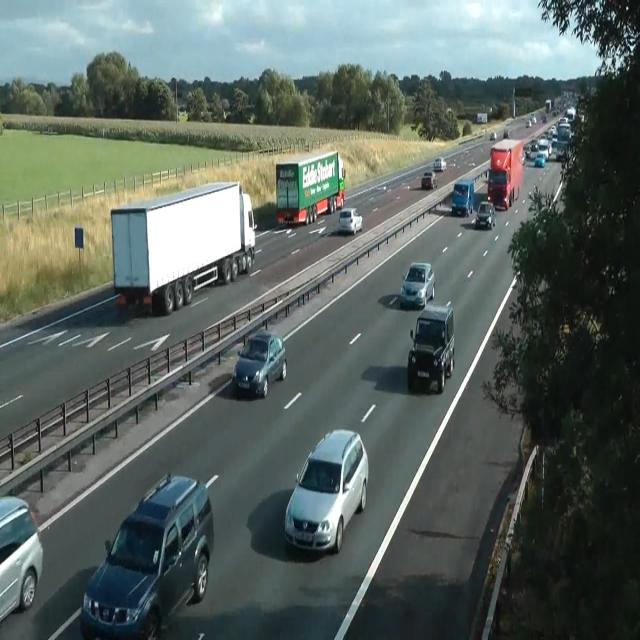bus: (0, 493, 44, 623), (232, 329, 286, 398), (399, 262, 435, 310), (338, 207, 362, 235), (475, 200, 495, 229), (421, 171, 437, 189), (434, 156, 446, 172), (534, 153, 546, 167), (530, 112, 536, 124), (489, 132, 496, 140), (541, 114, 547, 122), (503, 130, 509, 138), (525, 120, 531, 127)
jeep: (80, 471, 214, 637), (284, 428, 368, 554), (407, 300, 455, 393), (451, 180, 474, 216)
minibus: (110, 178, 256, 316), (275, 149, 345, 227), (487, 138, 524, 210), (477, 113, 488, 123), (544, 99, 552, 112)
